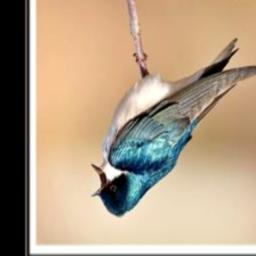Swallow: (87, 35, 256, 221)
